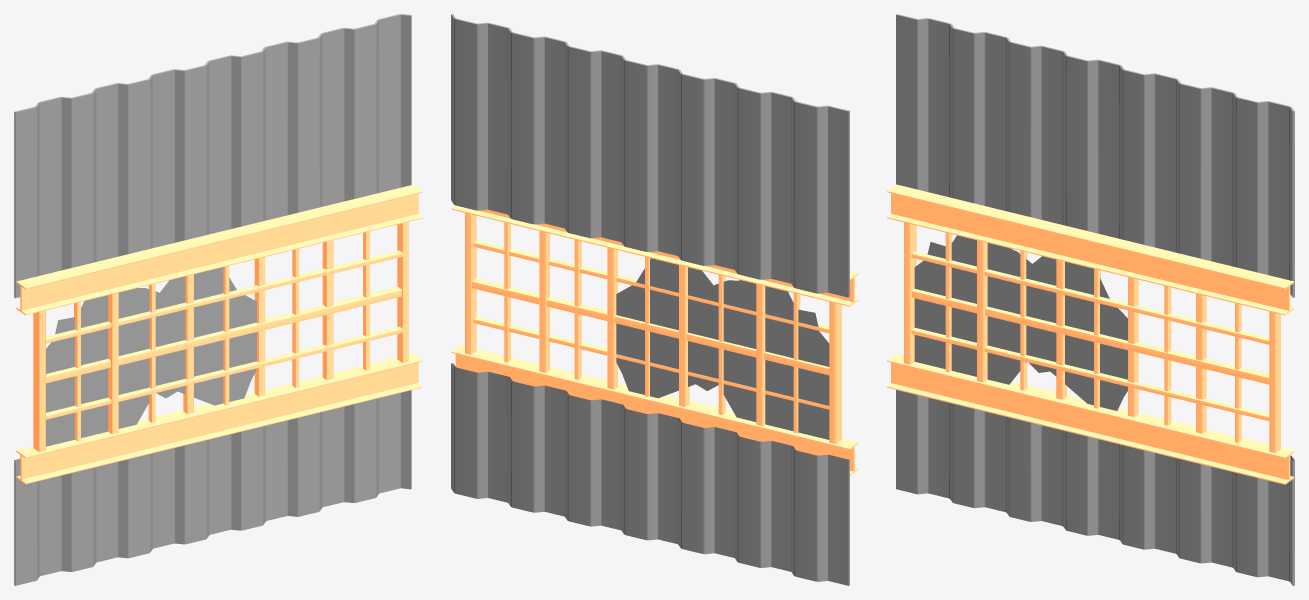
Rendered from SM_MetalPlate4.fbx.
3 renders of one model, left to right at view 1: azimuth 30°, elevation 25°; view 2: azimuth 150°, elevation 25°; view 3: azimuth 330°, elevation 25°, orthographic.
Visible parts, largest first — view 1: SM_MetalPlate4_LOD0; view 2: SM_MetalPlate4_LOD0; view 3: SM_MetalPlate4_LOD0.
Boxes of the visible parts, x1,y1,x2,y2 form: SM_MetalPlate4_LOD0: [14, 14, 422, 585]; SM_MetalPlate4_LOD0: [451, 14, 858, 585]; SM_MetalPlate4_LOD0: [887, 14, 1294, 585].
Bounding box in the file's own units: 352 × 21.99 × 400.
